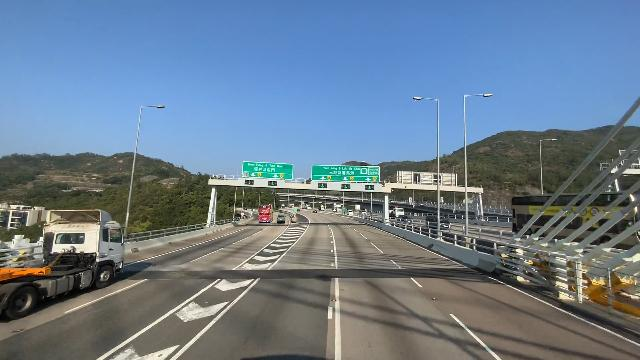bus: (508, 188, 640, 243), (258, 204, 273, 225)
car: (277, 215, 286, 224), (312, 209, 317, 214)
truck: (0, 206, 128, 324), (388, 207, 405, 218)
van: (426, 213, 452, 229)
